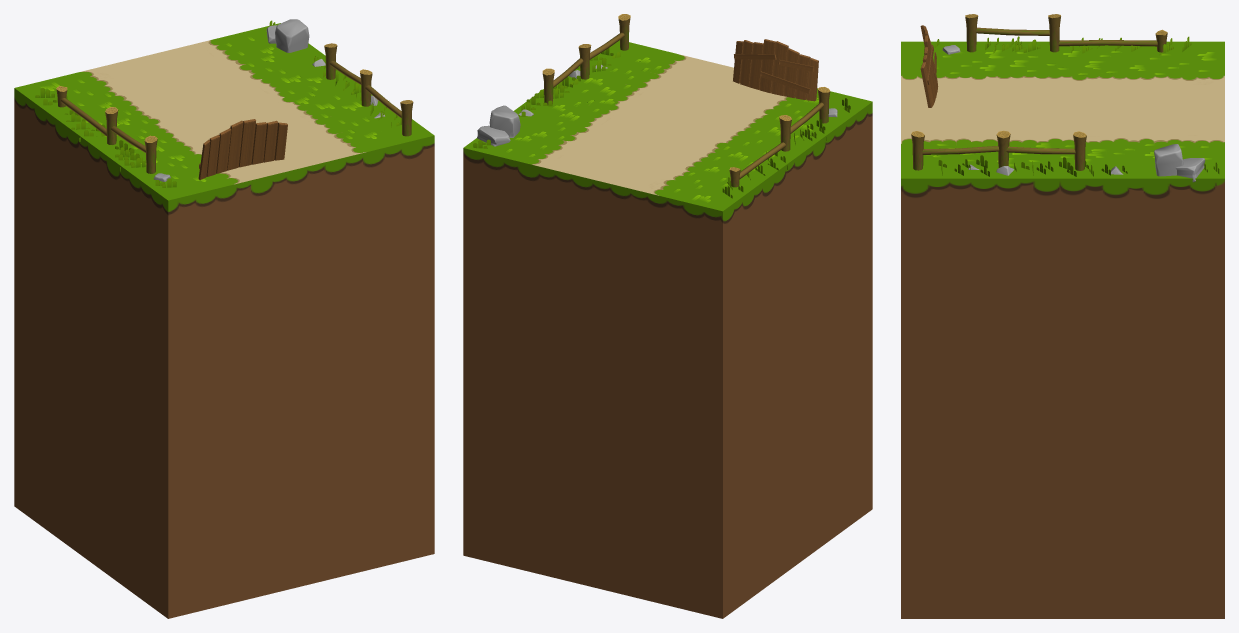
The model's file is Plataforma Barricada Der-Centro.fbx.
3 views of the same model, side by side, from view 1: azimuth 30°, elevation 25°; view 2: azimuth 150°, elevation 25°; view 3: azimuth 270°, elevation 25° (orthographic). The views are drawn at different scales.
Visible parts, largest first — view 1: Plataforma 1.006, Cube.192, Plane.023, Plane.019; view 2: Plataforma 1.006, Cube.192, Plane.019; view 3: Plataforma 1.006, Cube.192, Cylinder.017, Cylinder.019, Cylinder.018, Cube.193, Cylinder.022, Cylinder.015, Cylinder.012.
Boxes of the visible parts, x1=… form: Plataforma 1.006: x1=14, y1=23, x2=434, y2=618; Cube.192: x1=275, y1=19, x2=309, y2=52; Plane.023: x1=238, y1=119, x2=255, y2=167; Plane.019: x1=227, y1=120, x2=243, y2=170; Plataforma 1.006: x1=463, y1=40, x2=872, y2=618; Cube.192: x1=489, y1=105, x2=520, y2=137; Plane.019: x1=771, y1=41, x2=788, y2=95; Plataforma 1.006: x1=901, y1=41, x2=1224, y2=618; Cube.192: x1=1154, y1=144, x2=1183, y2=176; Cylinder.017: x1=1058, y1=40, x2=1157, y2=46; Cylinder.019: x1=922, y1=146, x2=999, y2=154; Cylinder.018: x1=975, y1=27, x2=1049, y2=35; Cube.193: x1=1175, y1=158, x2=1205, y2=182; Cylinder.022: x1=1005, y1=146, x2=1075, y2=154; Cylinder.015: x1=1073, y1=131, x2=1086, y2=170; Cylinder.012: x1=911, y1=131, x2=924, y2=170.
Bounding box in the file's own units: 1016 × 1679 × 1000.
